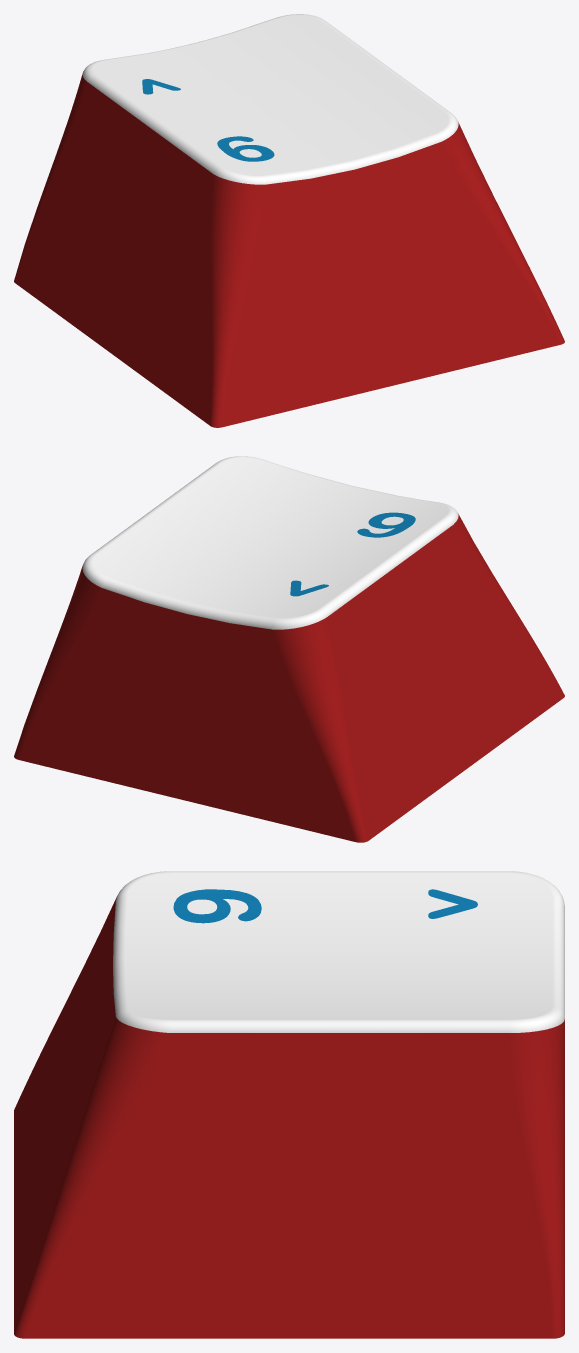
The picture shows the model from 3 angles, top to bottom: view 1: azimuth 30°, elevation 25°; view 2: azimuth 150°, elevation 25°; view 3: azimuth 270°, elevation 25°; orthographic projection. The views are drawn at different scales.
Visible parts, largest first — view 1: Body1; view 2: Body1; view 3: Body1.
Part boxes in pixels (x1,y1,x2,y2): Body1: (14, 14, 564, 427); Body1: (14, 456, 564, 842); Body1: (14, 871, 564, 1338).
Bounding box in the file's own units: 18 × 9.95 × 18.
